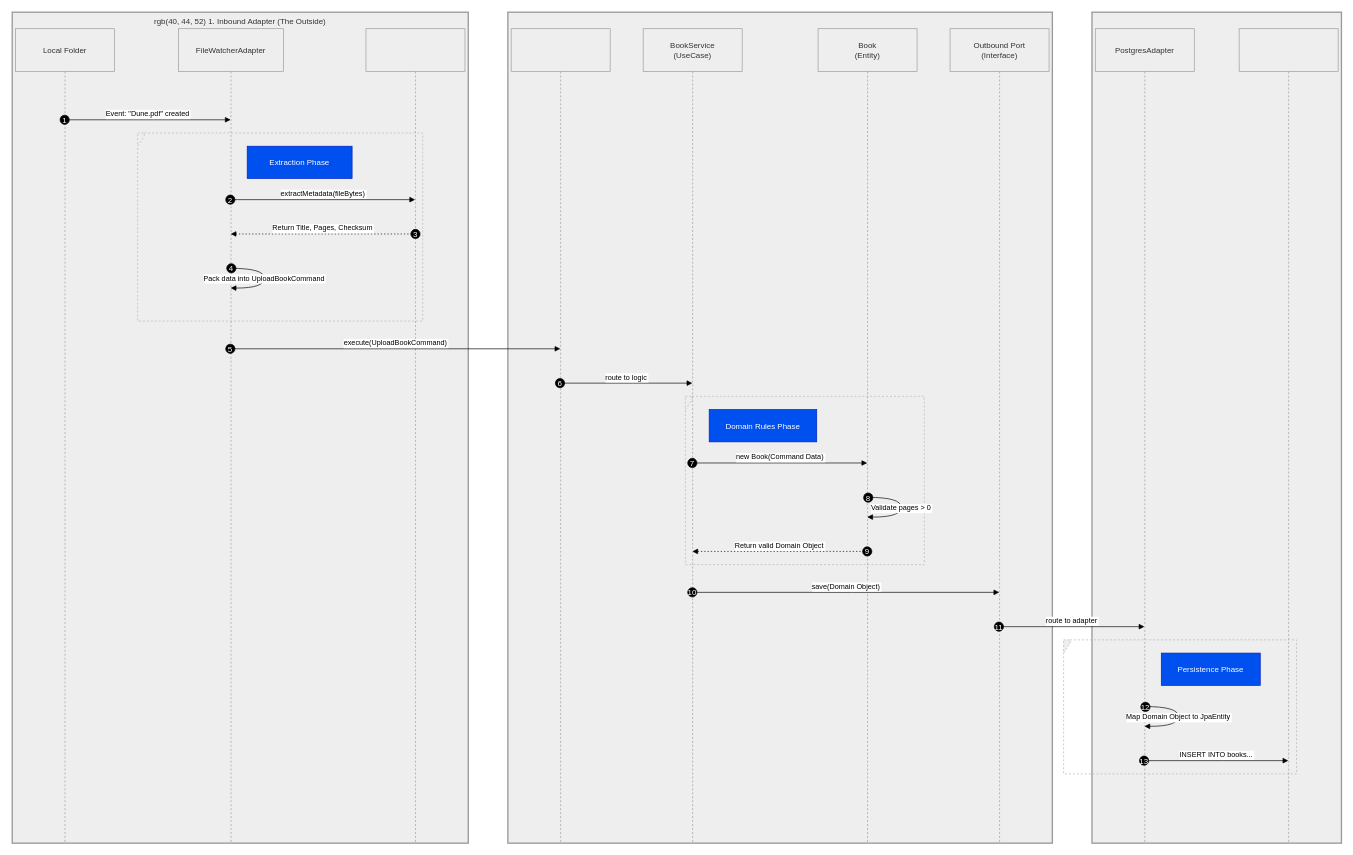
The diagram is 1353 pixels wide and 855 high, and some of its shapes have lost their labels. The shapes that lost their labels are listed below. From the top down, each one's box as (x1, y1, x2, y2) in pixels, then its label:
(365, 28, 465, 843): Apache PDFBox
(511, 28, 610, 843): Inbound Port (Interface)
(507, 11, 1053, 843): rgb(30, 50, 70) 2. Application Core (Pure Java)
(1091, 11, 1342, 843): rgb(50, 30, 50) 3. Outbound Adapter (The Database)
(1238, 28, 1338, 843): PostgreSQL
